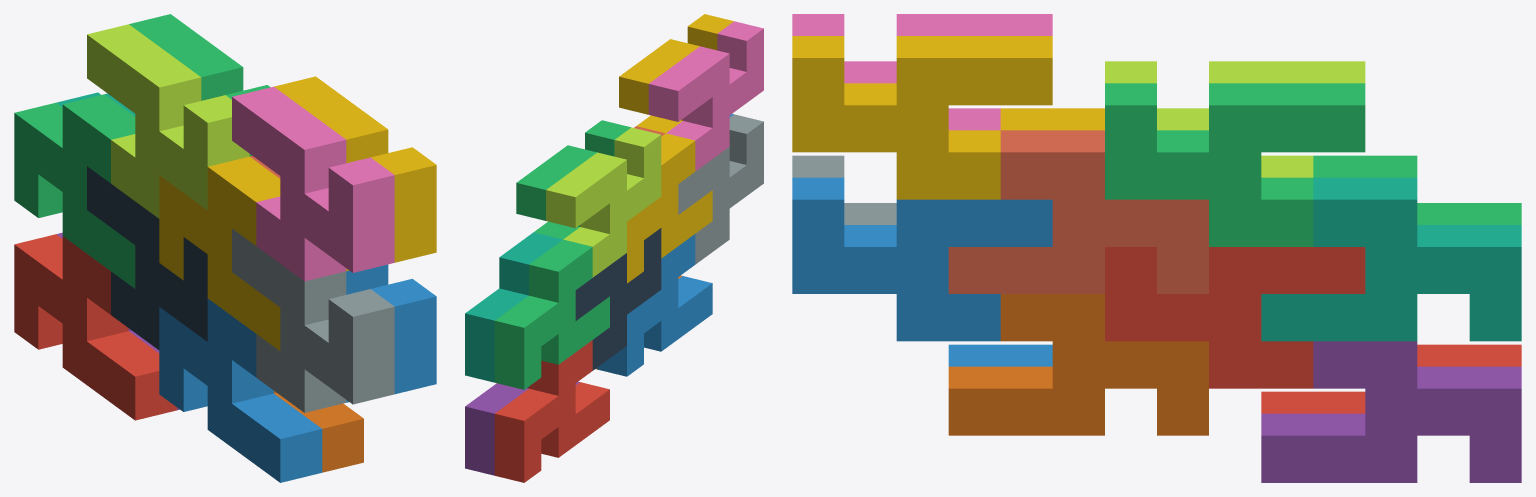
The model's file is tiling.obj.
The picture shows the model from 3 angles, left to right: view 1: azimuth 30°, elevation 25°; view 2: azimuth 150°, elevation 25°; view 3: azimuth 270°, elevation 25°; orthographic projection. The views are drawn at different scales.
Visible parts, largest first — view 1: copy_2_domain_4, copy_2_domain_2, copy_2_domain_3, copy_1_domain_1, copy_1_domain_2, copy_1_domain_3, copy_1_domain_4, copy_2_domain_1, copy_2_domain_8, copy_2_domain_6, copy_2_domain_7, copy_1_domain_6; view 2: copy_1_domain_3, copy_2_domain_3, copy_2_domain_4, copy_1_domain_1, copy_1_domain_2, copy_2_domain_2, copy_1_domain_4, copy_2_domain_1, copy_1_domain_7, copy_2_domain_8, copy_2_domain_7, copy_1_domain_5; view 3: copy_2_domain_8, copy_2_domain_7, copy_1_domain_7, copy_1_domain_5, copy_2_domain_6, copy_1_domain_6, copy_1_domain_8, copy_2_domain_5, copy_2_domain_3, copy_2_domain_4, copy_1_domain_1, copy_1_domain_3 (+3 smaller).
Boxes of the visible parts, x1,y1,x2,y2 form: copy_2_domain_4: (232,86,394,281); copy_2_domain_2: (232,228,394,412); copy_2_domain_3: (87,24,249,218); copy_1_domain_1: (14,234,176,420); copy_1_domain_2: (159,298,322,482); copy_1_domain_3: (14,94,135,288); copy_1_domain_4: (159,156,280,350); copy_2_domain_1: (87,166,207,349); copy_2_domain_8: (274,76,436,271); copy_2_domain_6: (346,264,436,402); copy_2_domain_7: (129,14,270,156); copy_1_domain_6: (274,391,363,472); copy_1_domain_3: (494,239,609,389); copy_2_domain_3: (546,127,661,277); copy_2_domain_4: (648,21,763,171); copy_1_domain_1: (494,340,609,482); copy_1_domain_2: (597,234,712,376); copy_2_domain_2: (678,114,763,264); copy_1_domain_4: (627,133,712,283); copy_2_domain_1: (575,228,661,370); copy_1_domain_7: (465,232,562,382); copy_2_domain_8: (619,14,733,133); copy_2_domain_7: (516,120,630,239); copy_1_domain_5: (465,381,579,475); copy_2_domain_8: (792,36,1052,199); copy_2_domain_7: (1105,83,1365,246); copy_1_domain_7: (1261,177,1521,341); copy_1_domain_5: (1261,341,1521,482); copy_2_domain_6: (792,177,1052,341); copy_1_domain_6: (948,294,1208,435); copy_1_domain_8: (948,130,1208,293); copy_2_domain_5: (1105,247,1365,388); copy_2_domain_3: (1105,61,1365,177); copy_2_domain_4: (792,14,1052,130); copy_1_domain_1: (1261,344,1521,413); copy_1_domain_3: (1313,155,1521,224).
Bounding box in the file's own units: 2 × 9 × 14.
